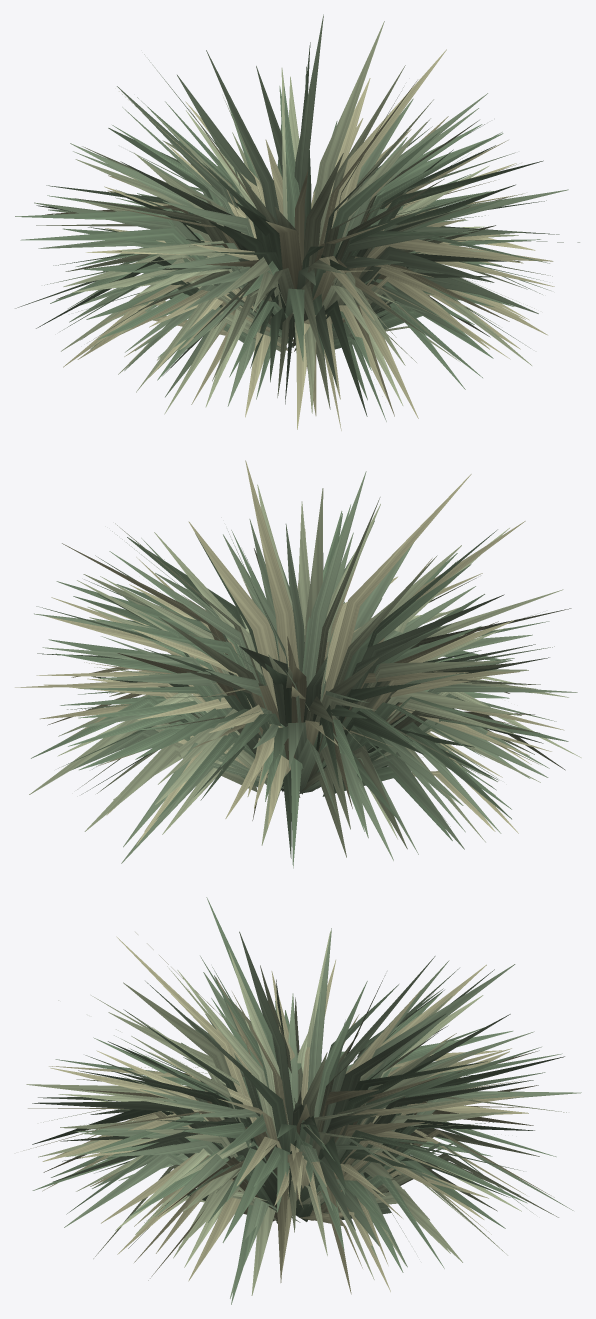
File: alpine_tussock_v01_LOD1.fbx
3 renders of one model, top to bottom at view 1: azimuth 30°, elevation 25°; view 2: azimuth 150°, elevation 25°; view 3: azimuth 270°, elevation 25°, orthographic. The views are drawn at different scales.
Visible parts, largest first — view 1: alpine_tussock_v01_LOD1; view 2: alpine_tussock_v01_LOD1; view 3: alpine_tussock_v01_LOD1.
Part boxes in pixels (left/top/right/bottom): alpine_tussock_v01_LOD1: left=15, top=14, right=579, bottom=430; alpine_tussock_v01_LOD1: left=15, top=460, right=581, bottom=868; alpine_tussock_v01_LOD1: left=23, top=897, right=581, bottom=1304.
Size of the model in its own units: 47.79 by 48.68 by 24.33.
Materials: 1 (1 with a texture image).
